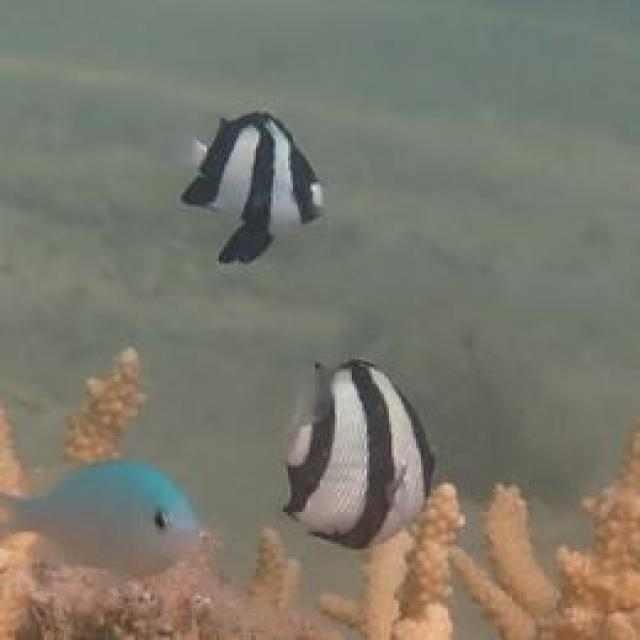ThreeStripedDamselfish: (283, 359, 436, 554), (177, 111, 325, 266)
